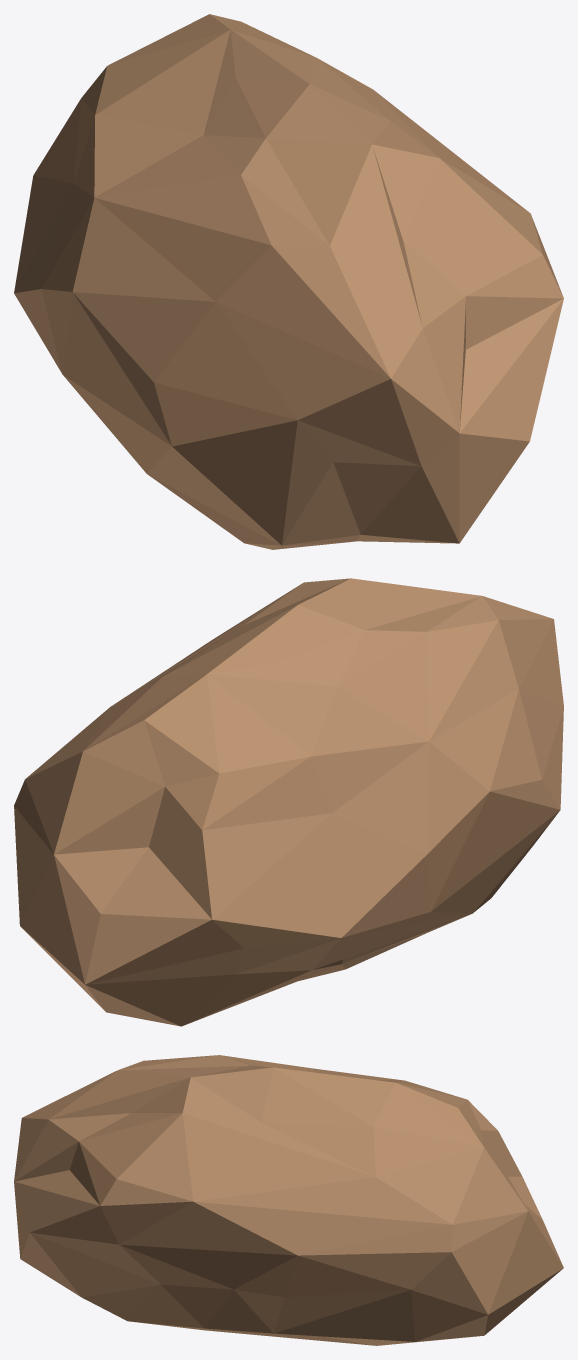
Rendered from terrain_rock1.glb.
3 renders of one model, top to bottom at view 1: azimuth 30°, elevation 25°; view 2: azimuth 150°, elevation 25°; view 3: azimuth 270°, elevation 25°, orthographic. The views are drawn at different scales.
Visible parts, largest first — view 1: Rock1; view 2: Rock1; view 3: Rock1.
Part boxes in pixels (<box>): Rock1: <box>14,14,563,549</box>; Rock1: <box>14,578,563,1026</box>; Rock1: <box>14,1055,563,1345</box>.
Bounding box in the file's own units: 1.58 × 1.48 × 2.66.
